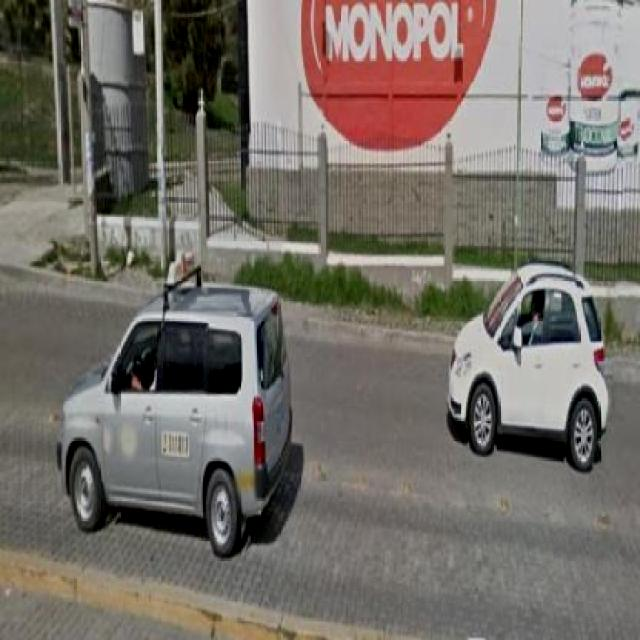car: (69, 278, 295, 559), (455, 266, 612, 492)
